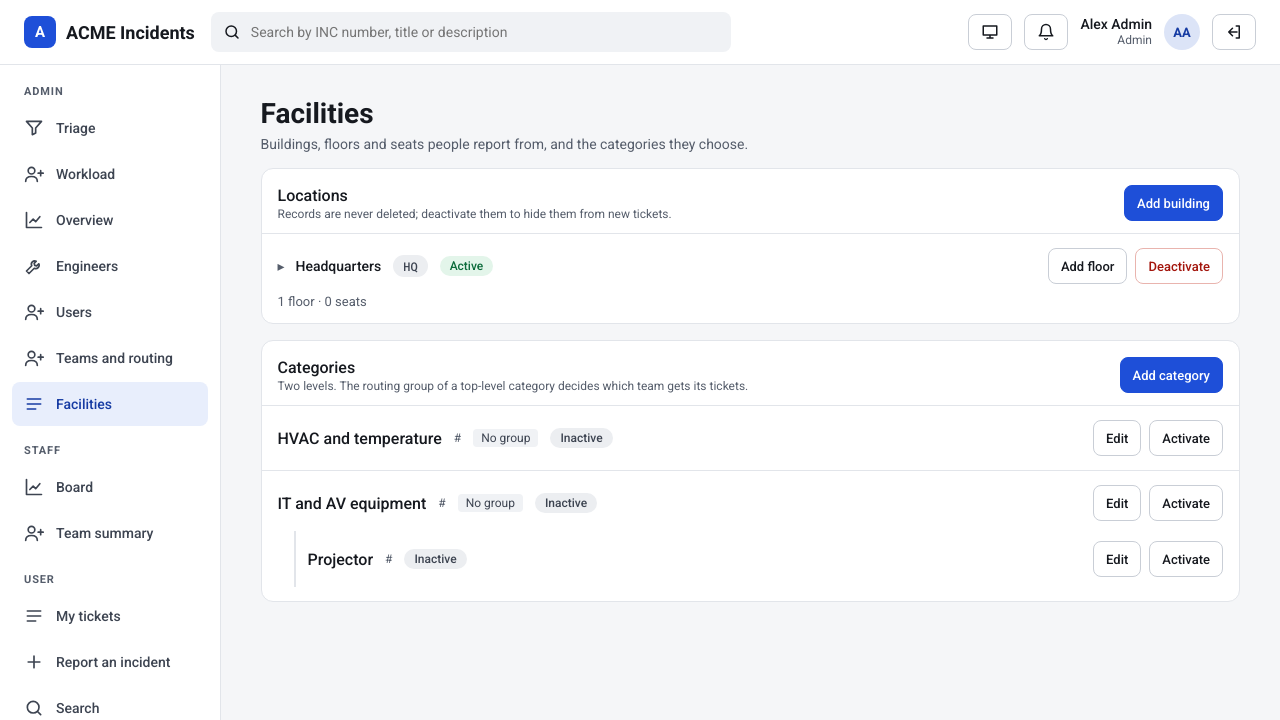
Test: facility errors › names the clashing field of a duplicate building, and sends one request on a double click
Expected: the heading "Facilities" is shown, [260,97,374,130]
Click the button "Add building": (1174, 203) [1124,185,1223,221]
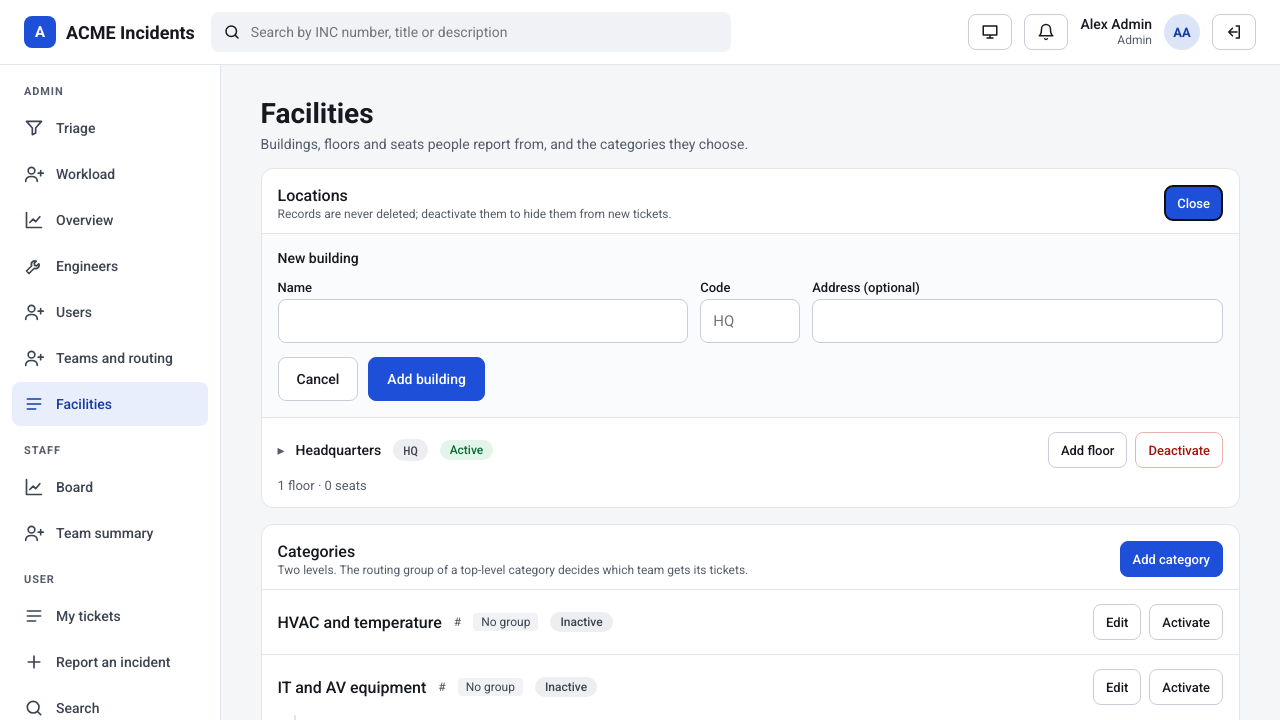
In the field labelled "Name": (483, 321) [278,299,688,343], type "Annex 2"
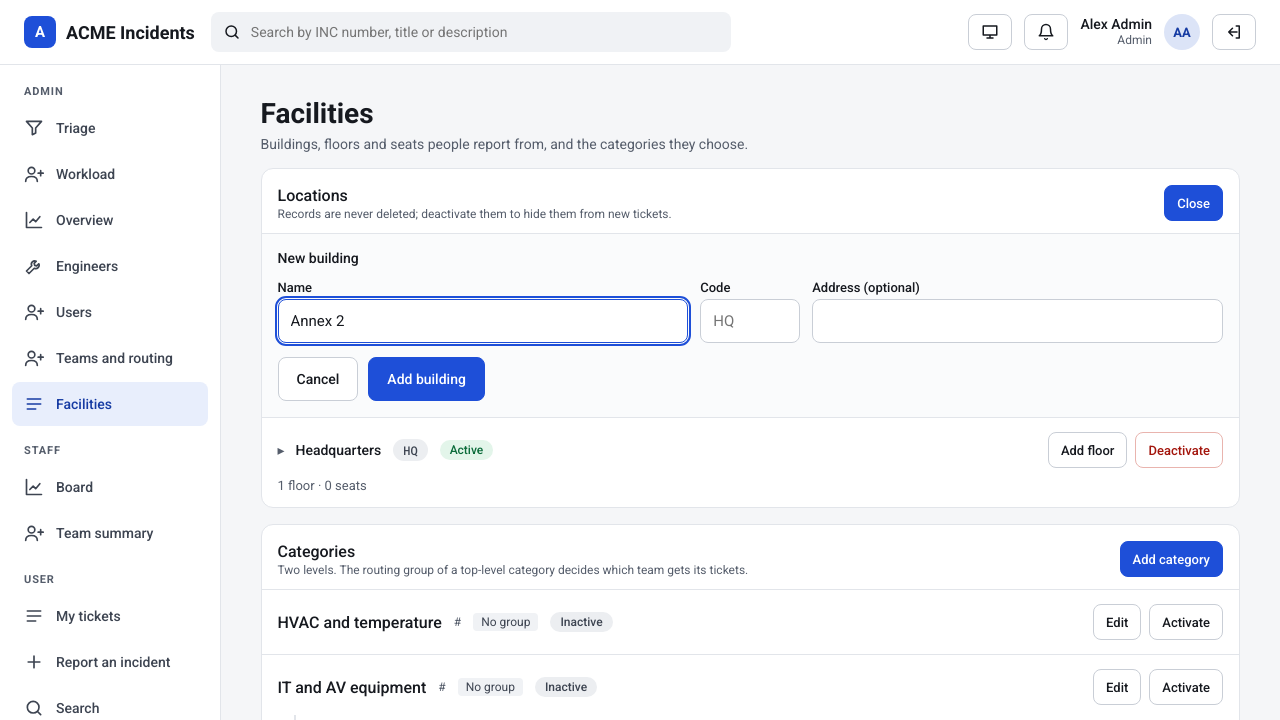
In the field labelled "Code": (750, 321) [700,299,800,343], type "hq"
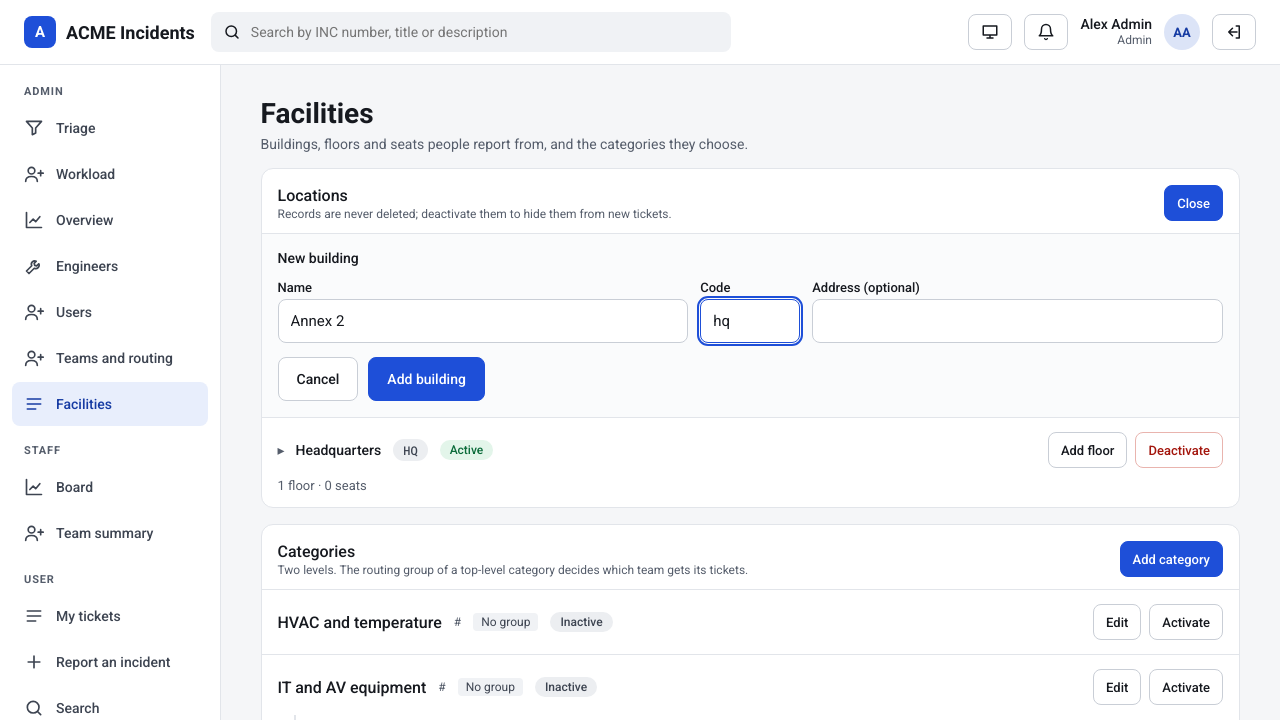
Double-click the button "Add building": (427, 379) [368,357,485,401]
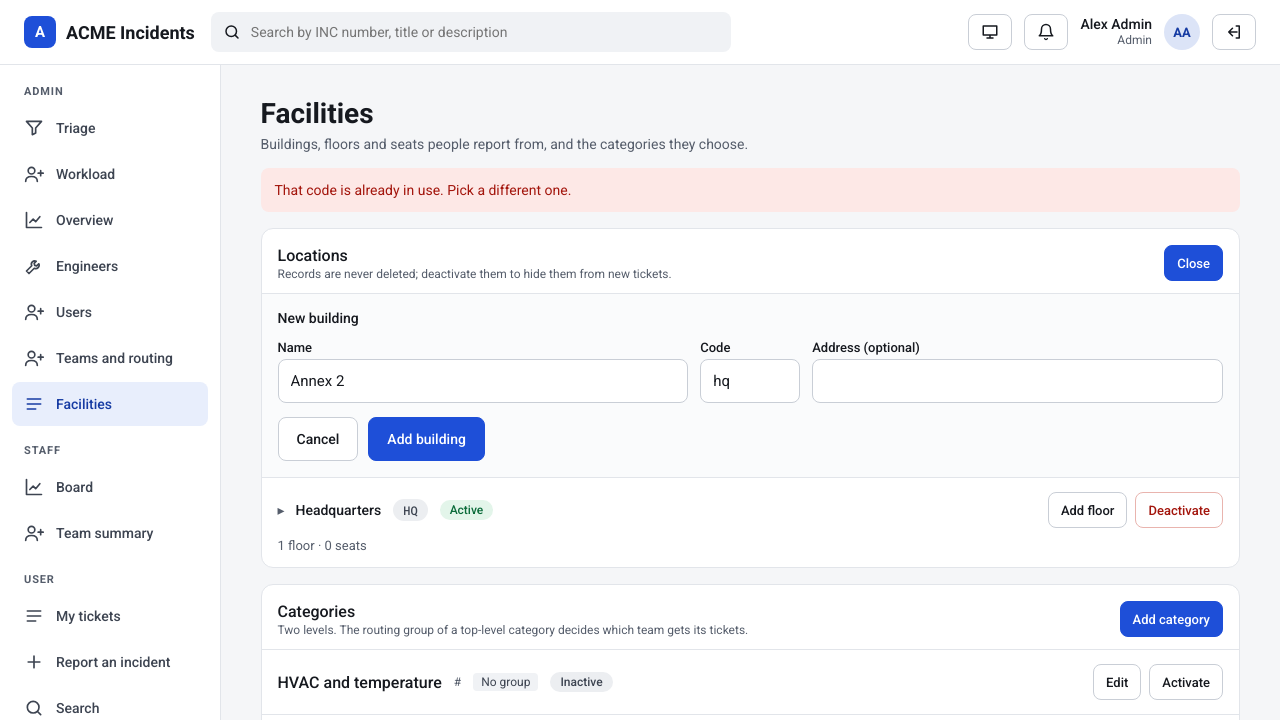
Now the message reads "That code is already in use. Pick a different one.", box [274,182,571,198]
